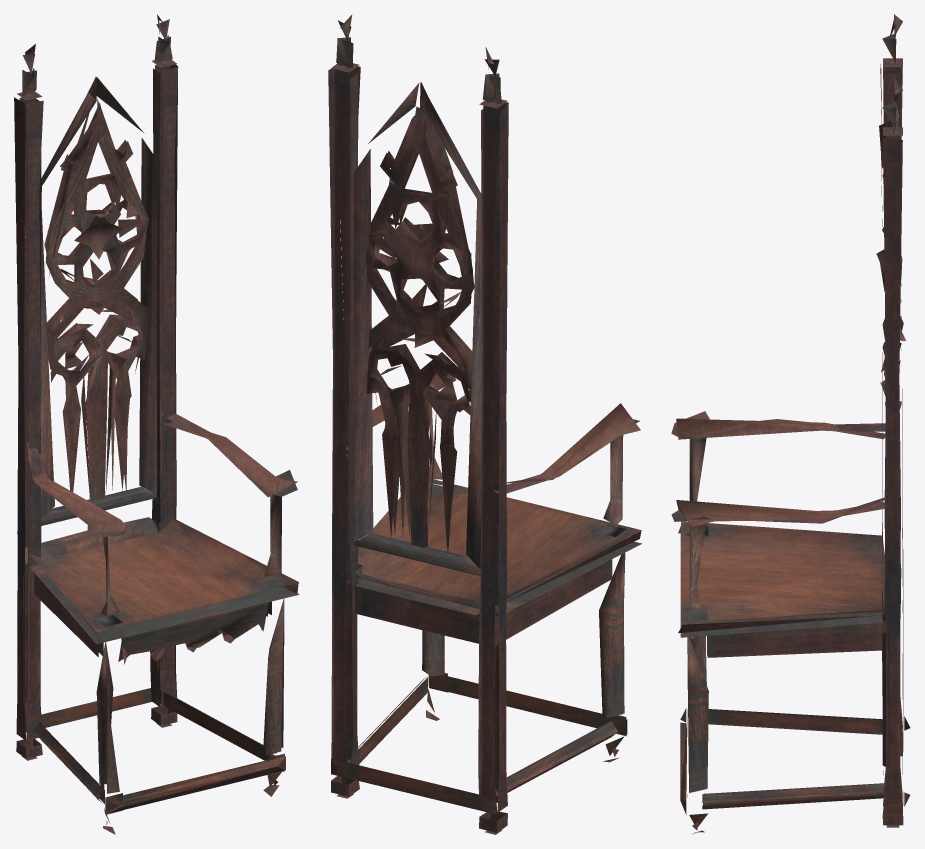
File: chair.glb
3 views of the same model, side by side, from view 1: azimuth 30°, elevation 25°; view 2: azimuth 150°, elevation 25°; view 3: azimuth 270°, elevation 25° (orthographic). The views are drawn at different scales.
Parts seen in each view (by area): view 1: WoodenChair_01; view 2: WoodenChair_01; view 3: WoodenChair_01.
Part boxes in pixels (bbox=[...]): WoodenChair_01: bbox=[14, 14, 299, 834]; WoodenChair_01: bbox=[328, 14, 641, 834]; WoodenChair_01: bbox=[671, 14, 910, 834].
Bounding box in the file's own units: 0.6987 × 2.26 × 0.6543.
Materials: 1 (1 with a texture image).
